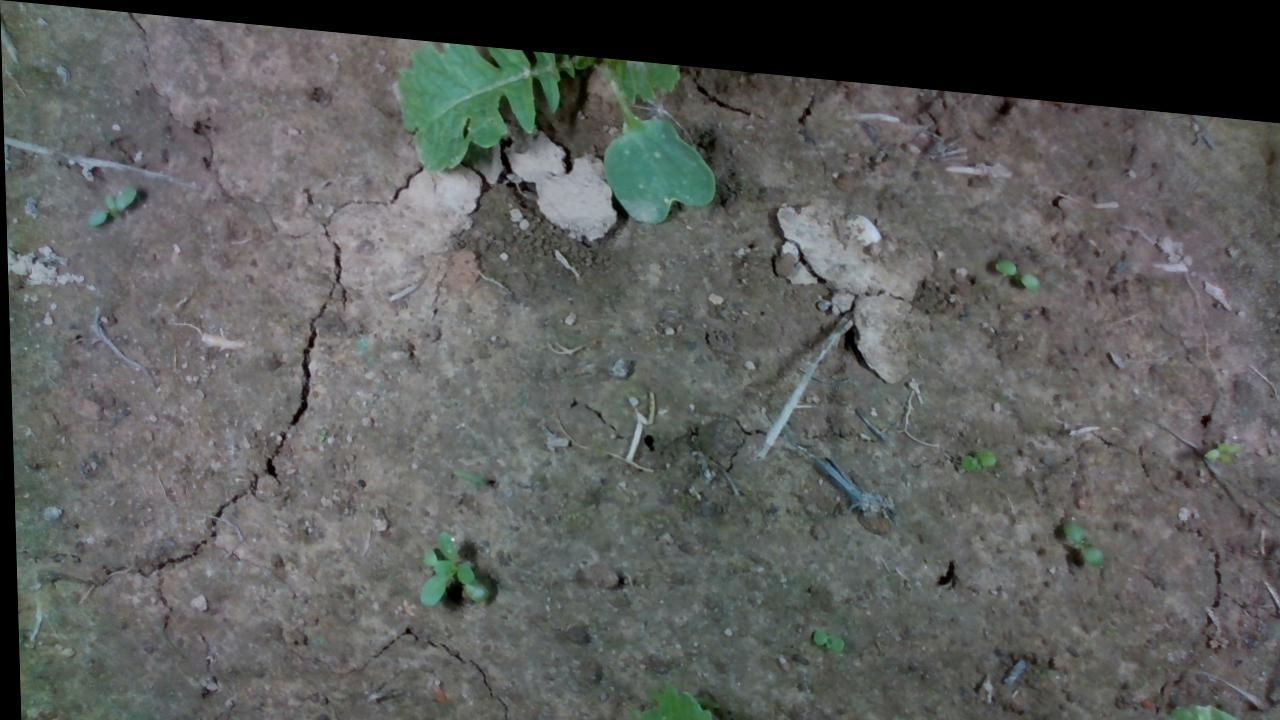weed: (83, 177, 136, 229), (1059, 496, 1101, 544), (992, 235, 1038, 271), (884, 696, 936, 719), (1201, 413, 1242, 438), (955, 428, 993, 453), (808, 611, 841, 637), (1003, 709, 1042, 719)
